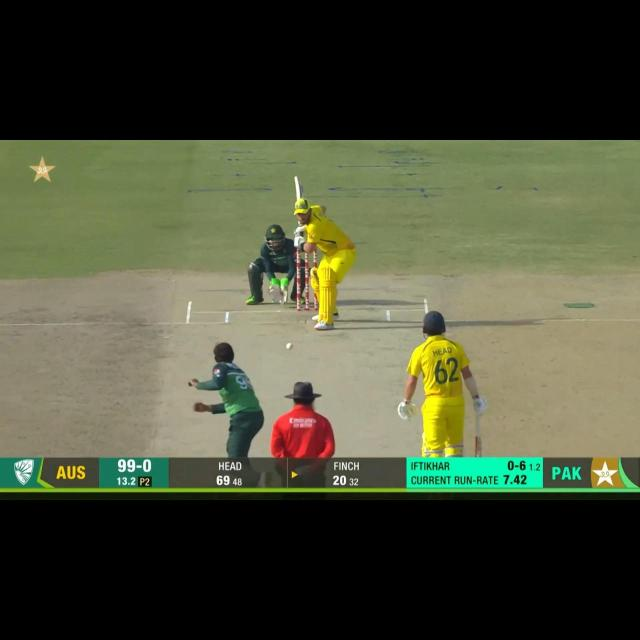bat: (290, 172, 308, 202), (472, 430, 485, 457)
toe: (289, 174, 306, 189)
